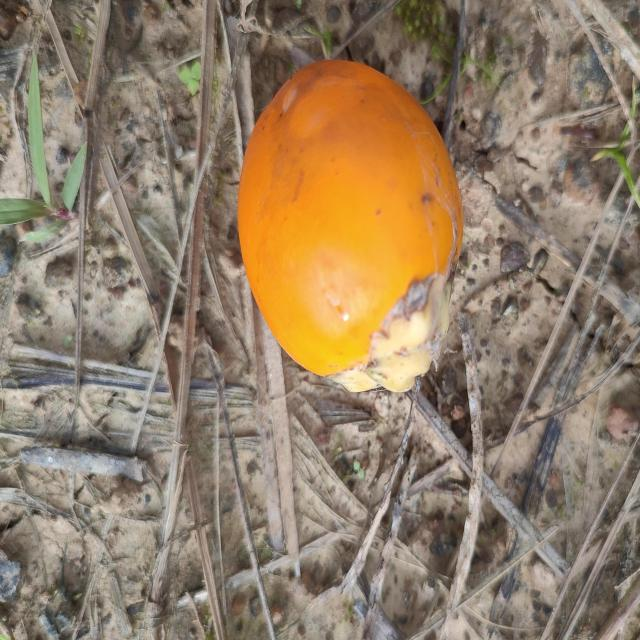good: (237, 60, 466, 394)
